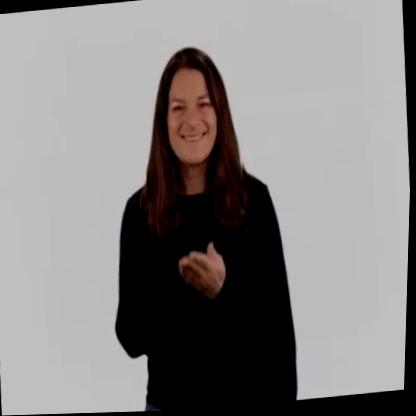ThankYou: (135, 40, 257, 327)
